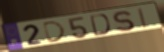2: (22, 23, 46, 47)
5: (67, 15, 89, 39)
D: (42, 20, 68, 44), (89, 13, 112, 37)
I: (137, 7, 149, 29)
S: (112, 10, 136, 33)
